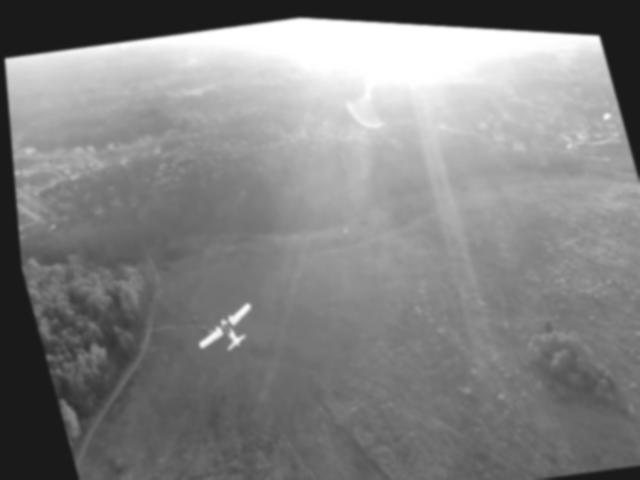hedef: (172, 285, 267, 369)
